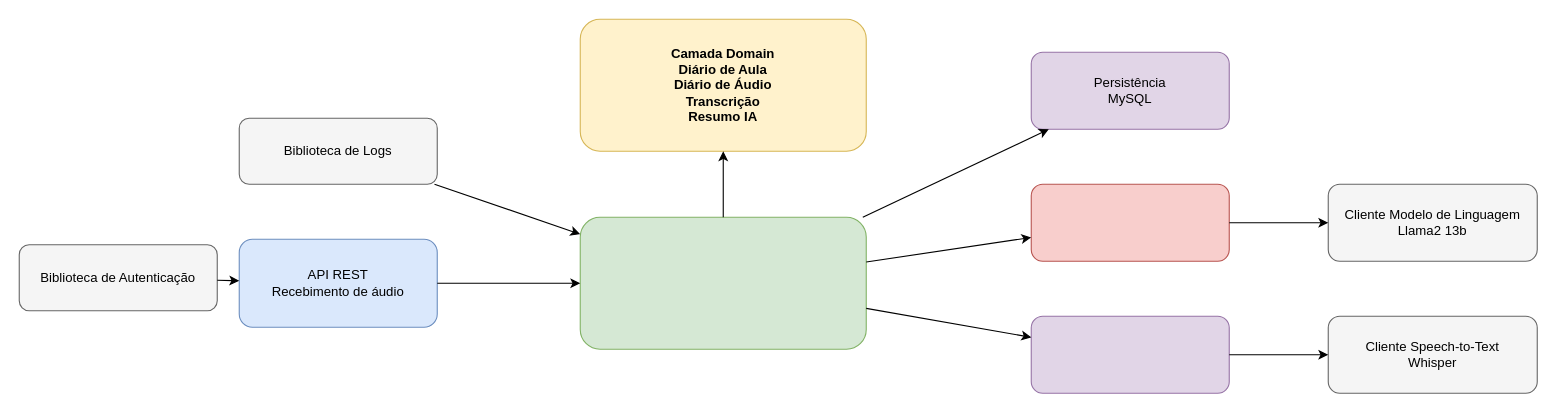
Image size: 1557x413. Some labels were removed from this diagram. Here are the shapes that lost their labels. From the top down, the box of each, then its label:
(1030, 183, 1229, 261): Mensageria RabbitMQ
(579, 216, 866, 349): Camada Application Casos de uso de processamento de áudio
(1030, 315, 1229, 393): Storage MinIO
